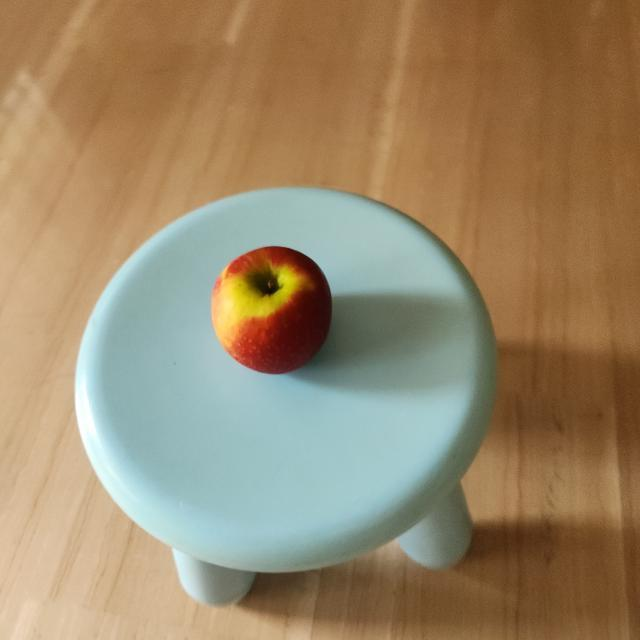apple: (203, 235, 338, 385)
